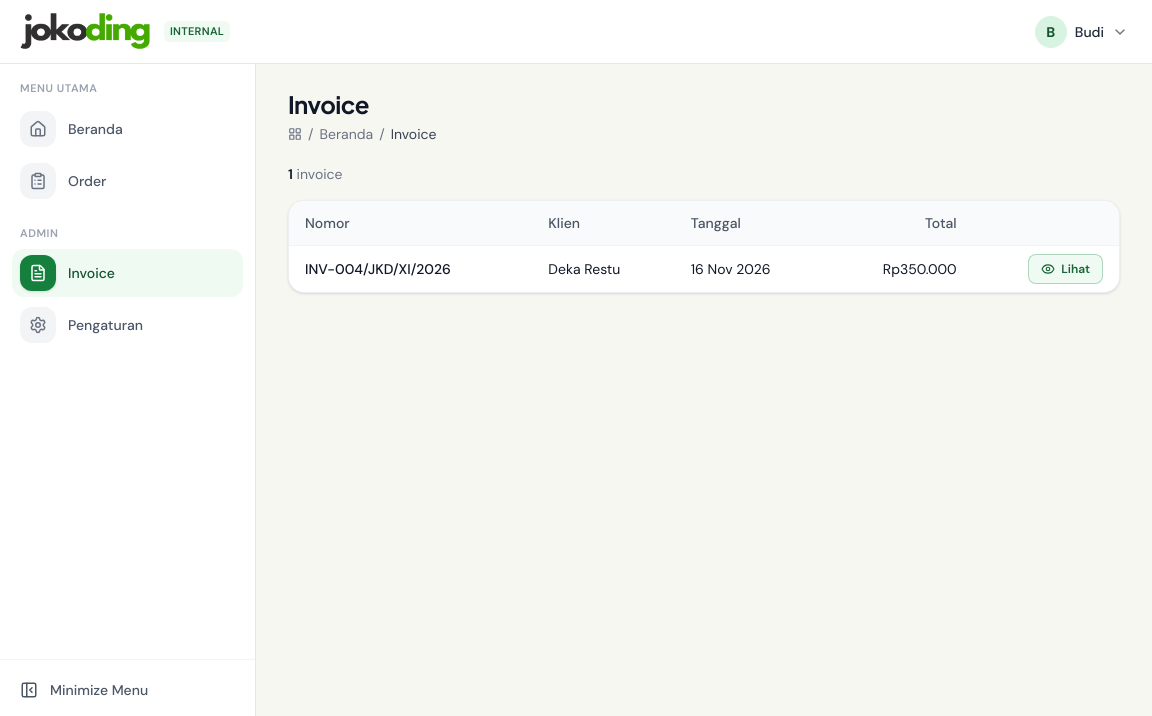
Test case: InvoicesPage › lists invoices and opens one on row click
Expected: the text "Rp350.000" is shown, [828, 246, 973, 292]
What coordinates should you click on to do the following:
click the link with aria-label "Lihat invoice INV-004/JKD/XI/2026"
I would click on:
 (1066, 269)
Its box is [1028, 254, 1103, 284].
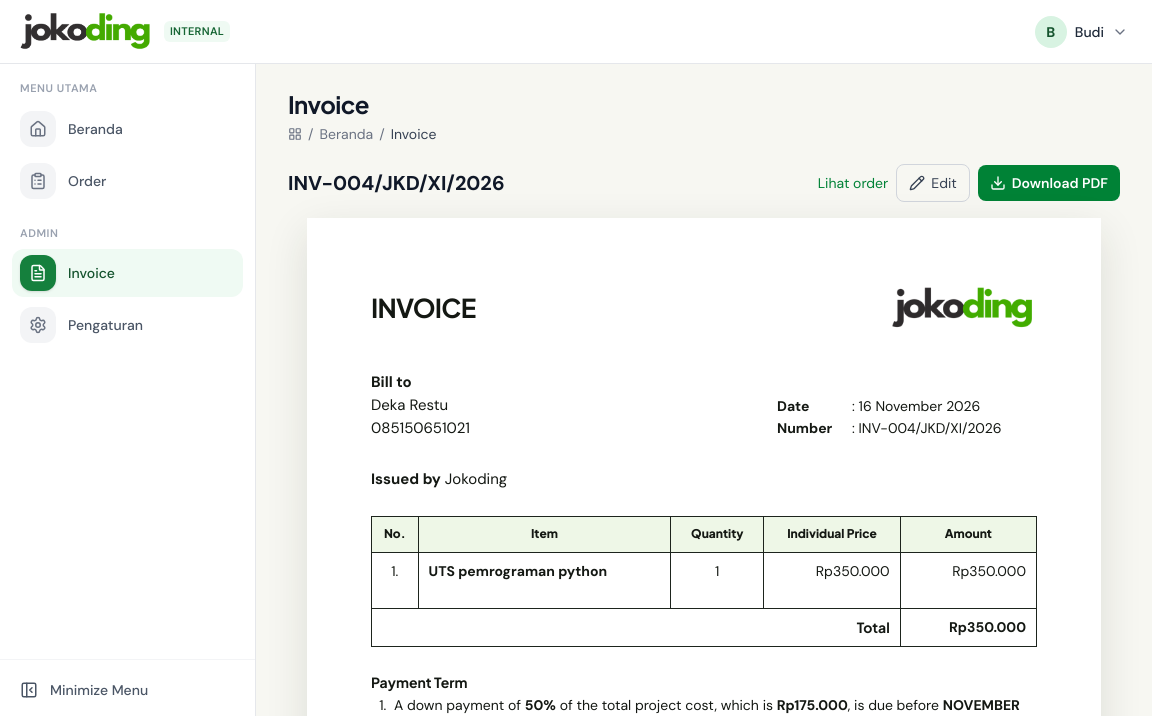
Result: the button "Download PDF" is shown at [978, 165, 1120, 201]
